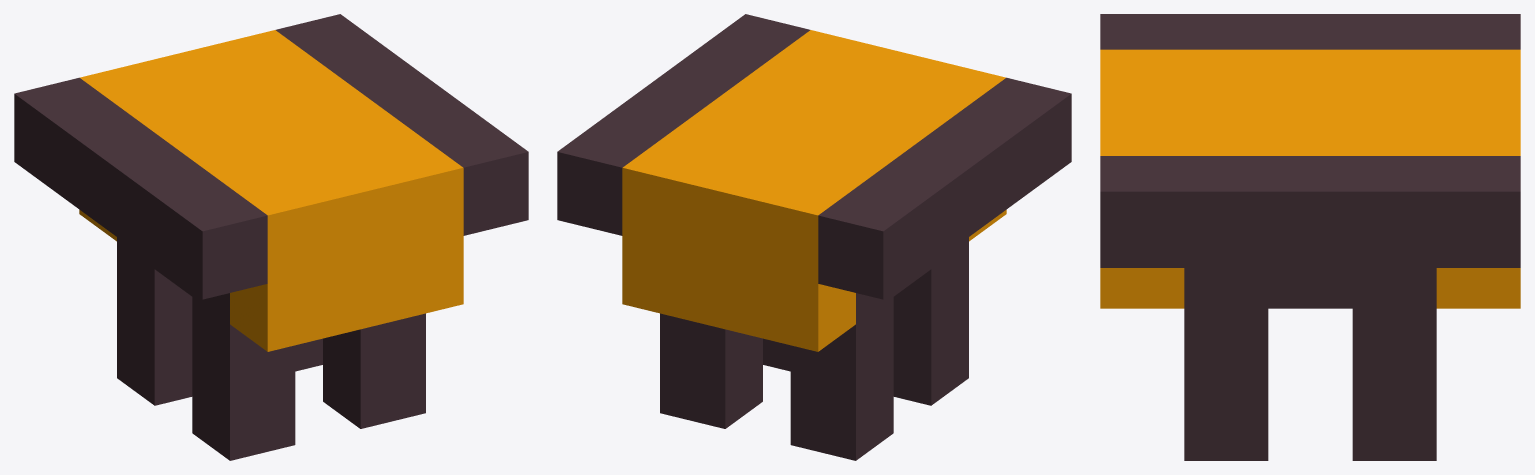
File: small_bench_c_yellow.obj
3 renders of one model, left to right at view 1: azimuth 30°, elevation 25°; view 2: azimuth 150°, elevation 25°; view 3: azimuth 270°, elevation 25°, orthographic. The views are drawn at different scales.
Size of the model in its own units: 0.5 by 0.4 by 0.5.
1 material, 1 textured.
